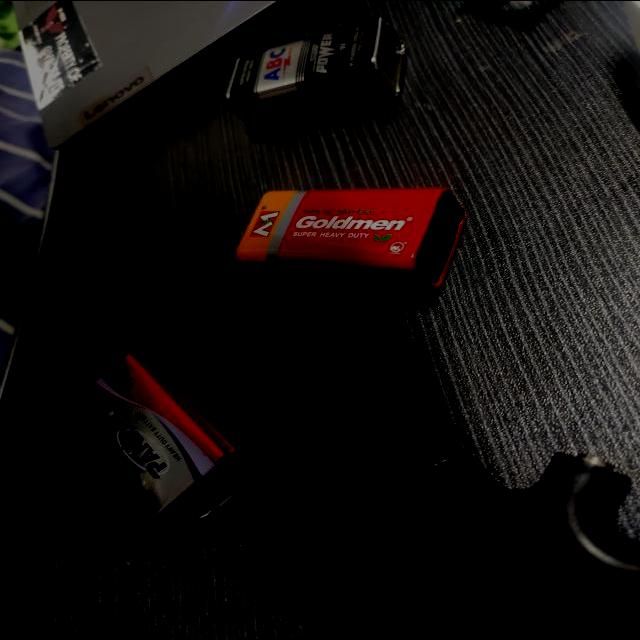9V: (57, 320, 276, 544), (223, 172, 500, 300), (210, 6, 424, 142)
